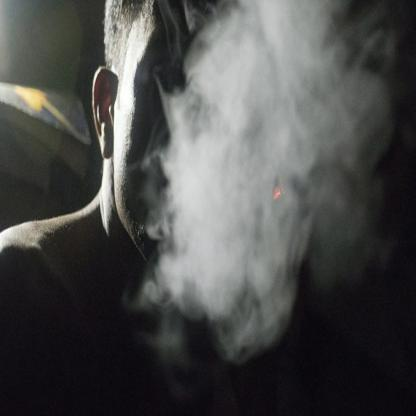smoke: (165, 8, 335, 320)
